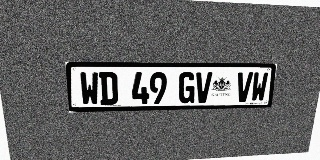4: (132, 72, 149, 104)
9: (150, 72, 167, 104)
D: (99, 72, 118, 105)
G: (178, 72, 196, 103)
V: (235, 72, 253, 102), (195, 72, 212, 103)
W: (79, 72, 100, 105), (250, 72, 268, 102)
